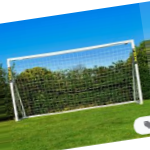goals: (6, 38, 144, 118)
